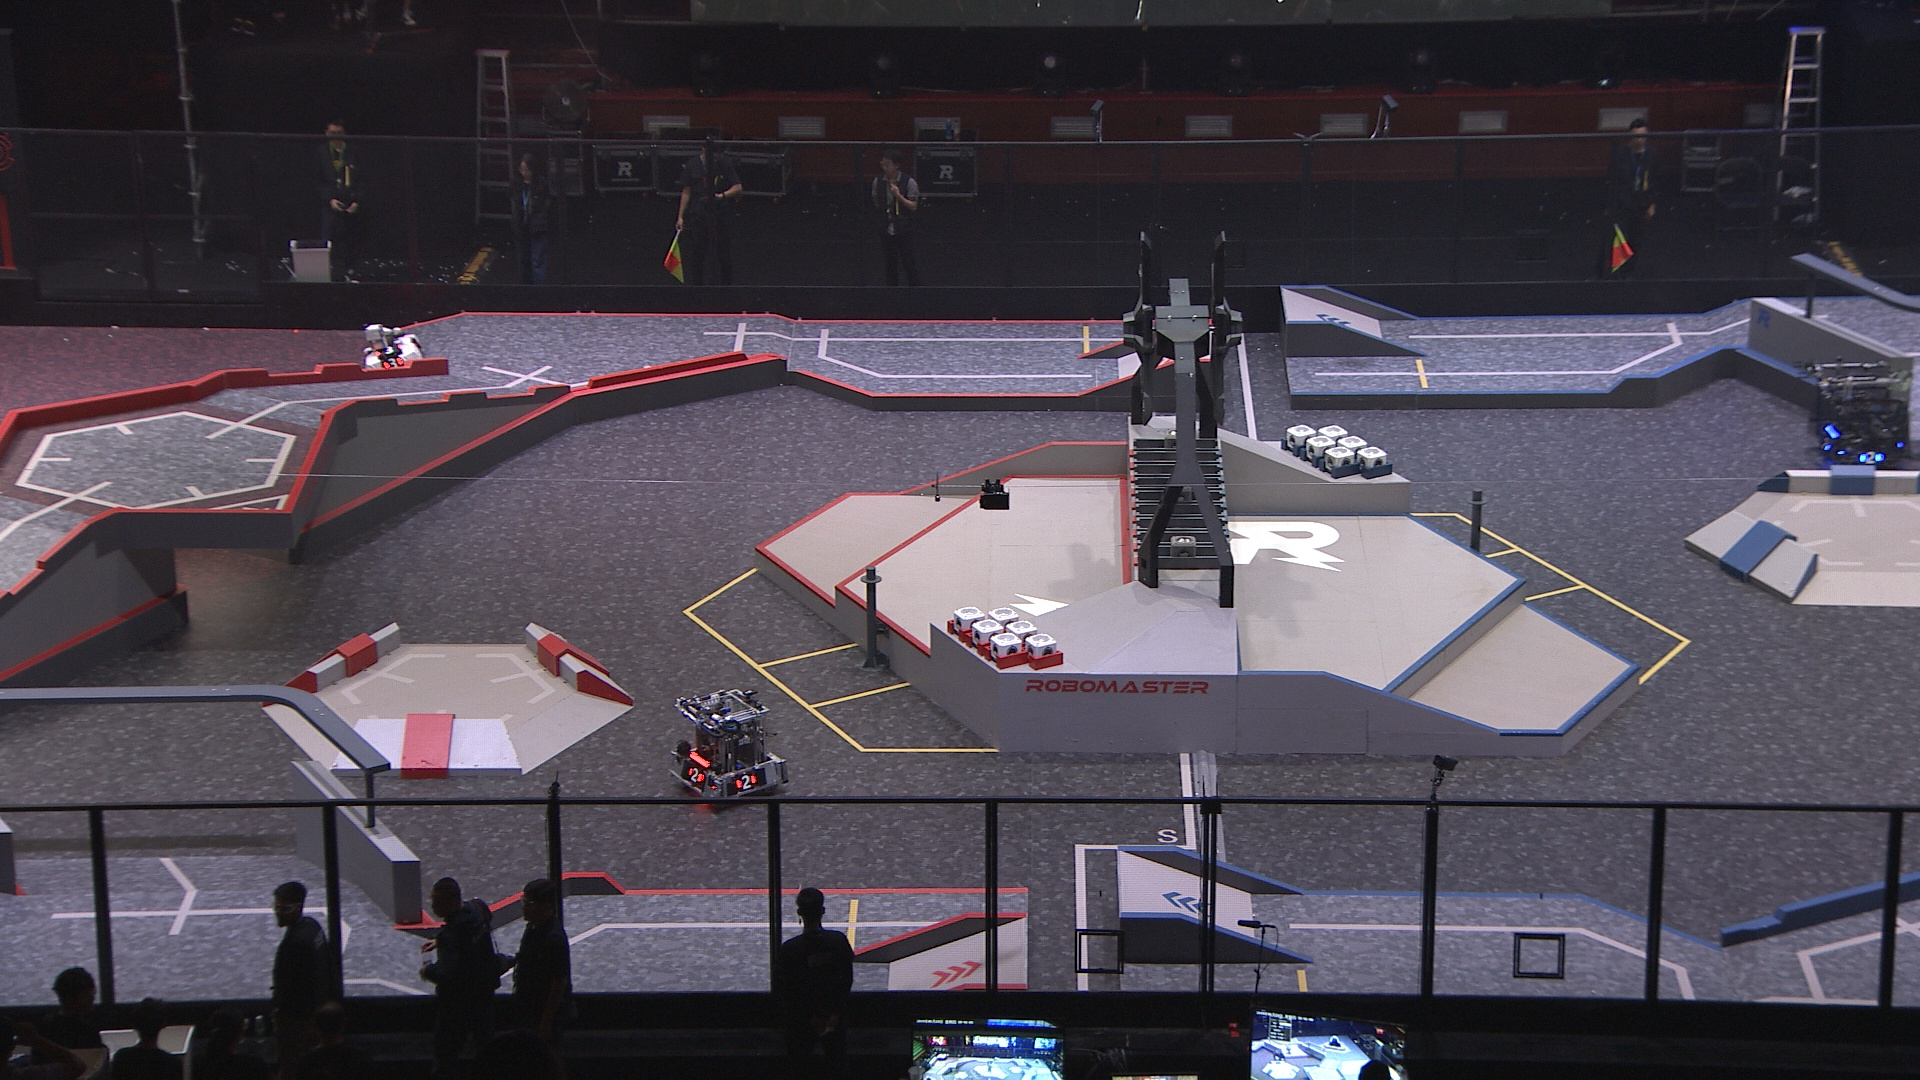armor: (1858, 448, 1887, 467), (733, 774, 760, 793), (373, 343, 404, 357), (382, 353, 405, 371), (688, 765, 705, 785), (1818, 436, 1836, 456)
car: (667, 688, 789, 814), (1809, 360, 1916, 469), (363, 322, 429, 378)
